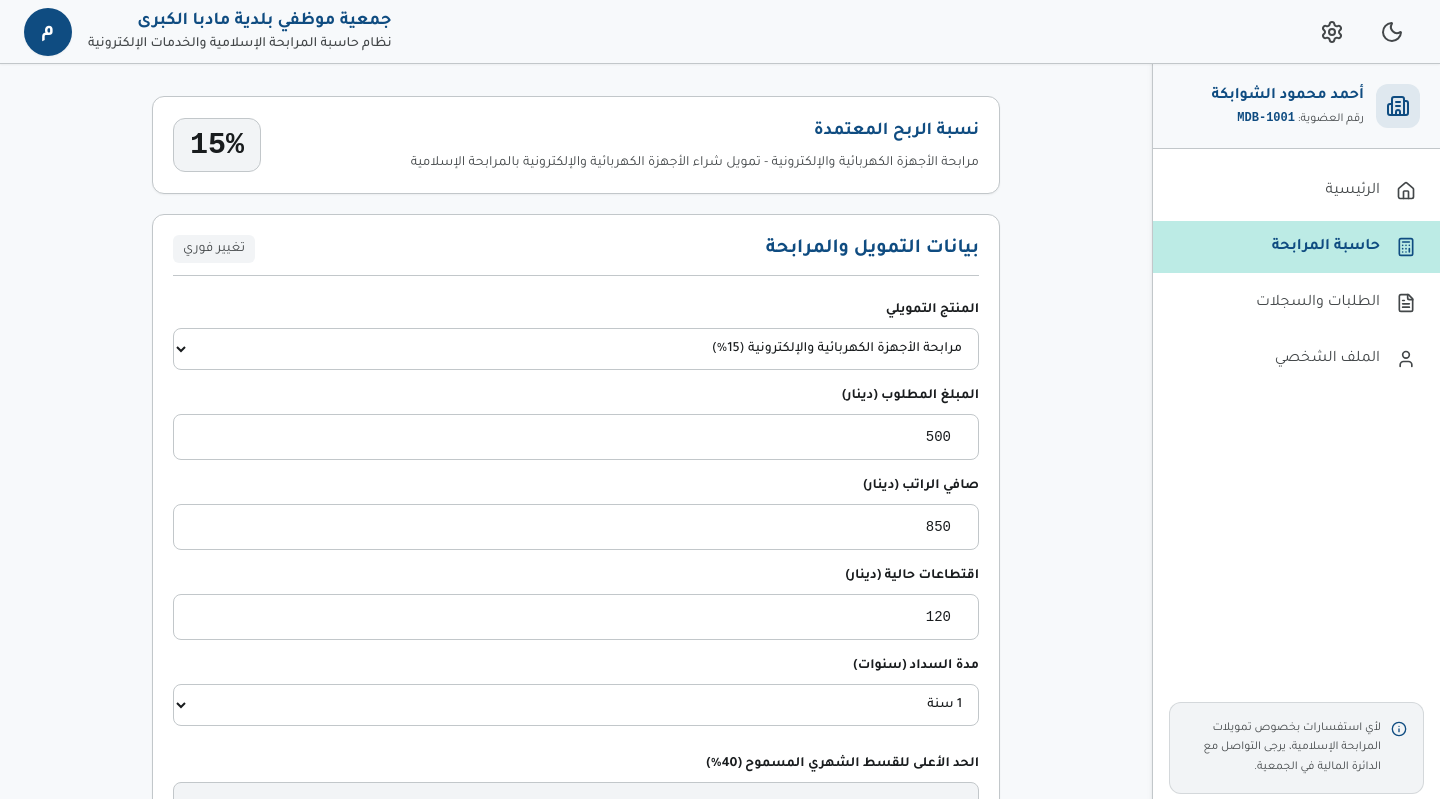
App with Convex queries and mutations › renders the home dashboard with profile stats and navigates via quick actions
The width and height of the screenshot is (1440, 799).
Click the button "الرئيسية" at (1353, 191), box [1153,165,1439,217]
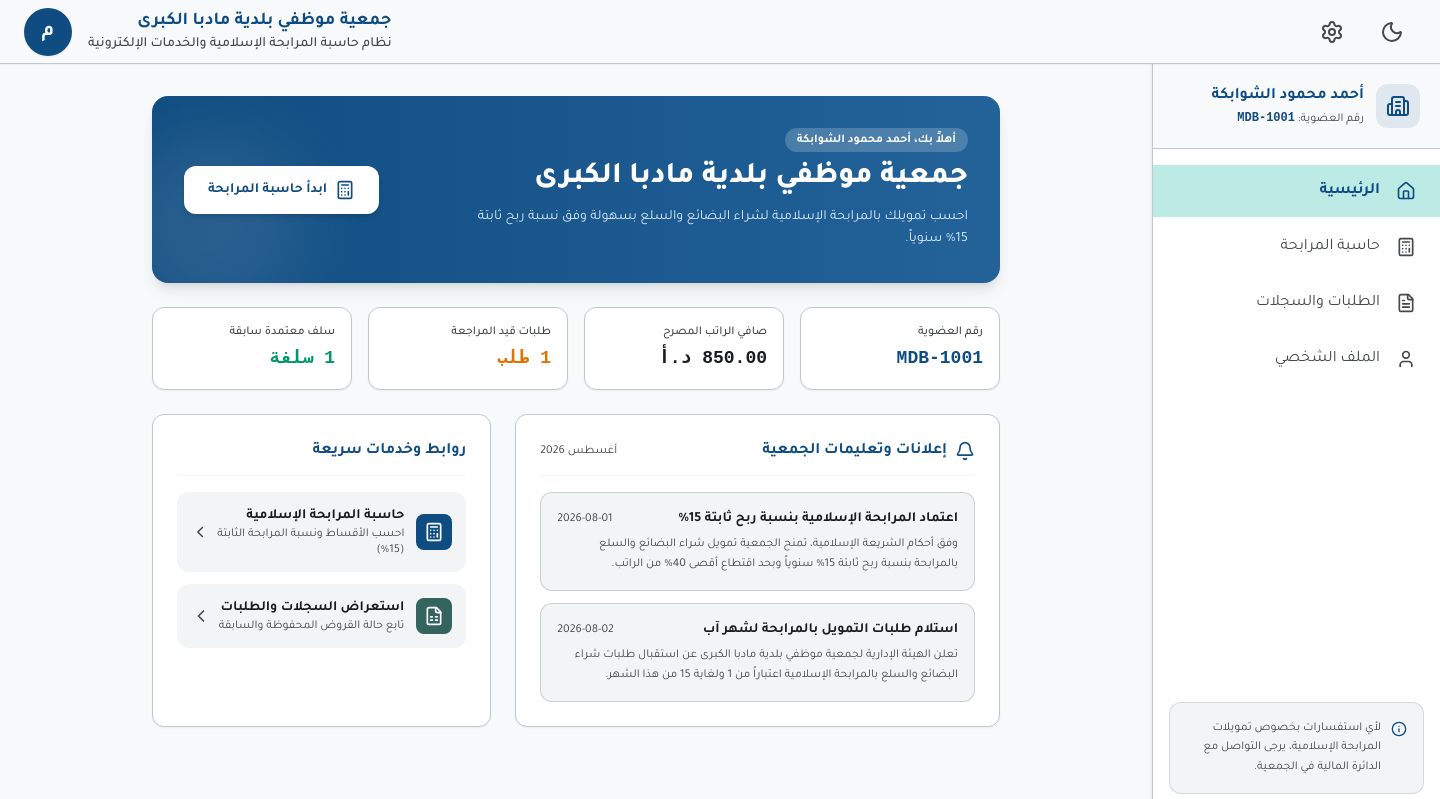
Expected: the text "أهلاً بك، أحمد محمود الشوابكة" is shown, [785,128,968,152]
Expected: the text "850.00 د.أ" is shown, [659,348,767,368]
Expected: the text "1 طلب" is shown, [497,348,551,368]
Click the button "ابدأ حاسبة المرابحة" at (282, 190), box [184,166,379,214]
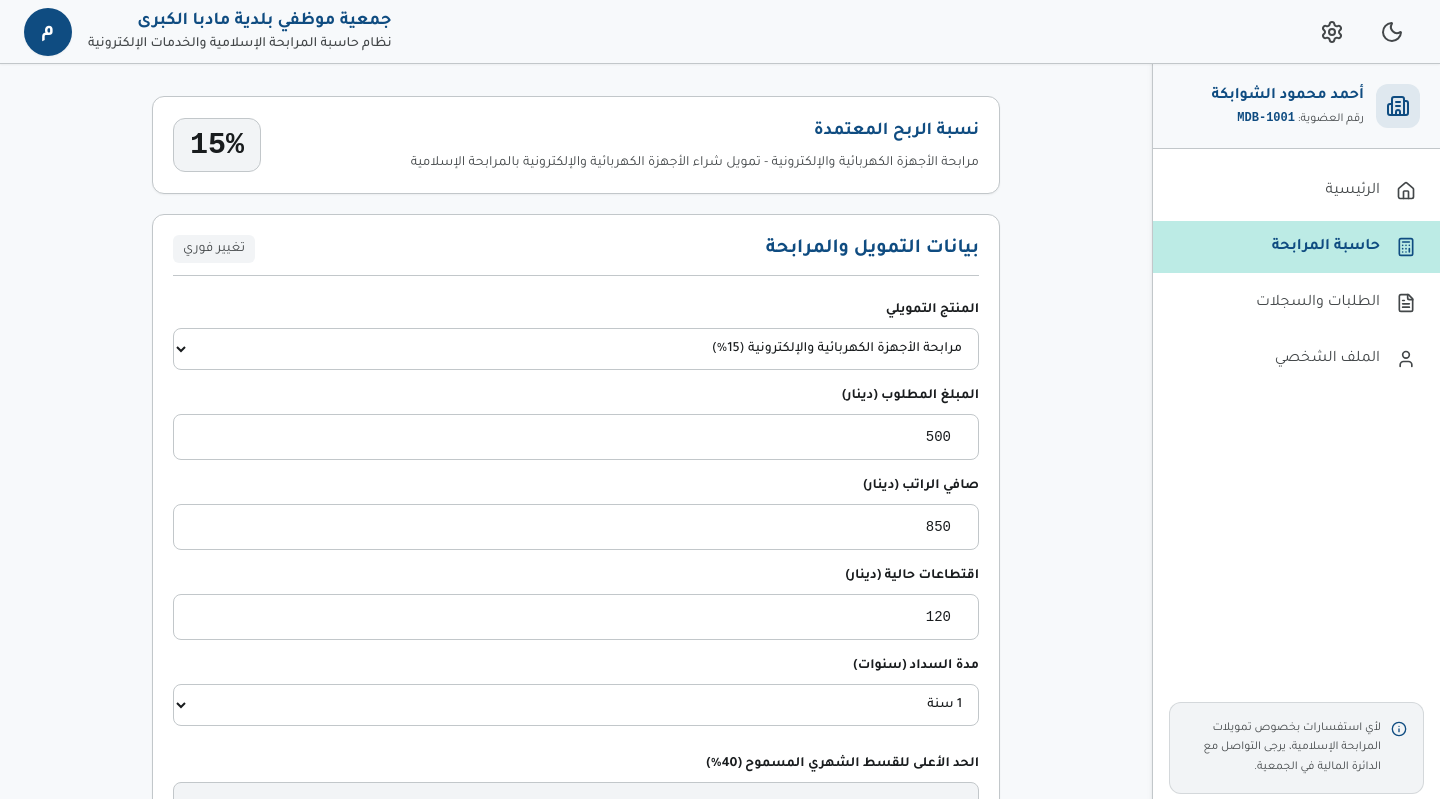
Expected: the heading "نسبة الربح المعتمدة" is shown, [814,122,979,140]
Click the button "الرئيسية" at (1353, 191), box [1153,165,1439,217]
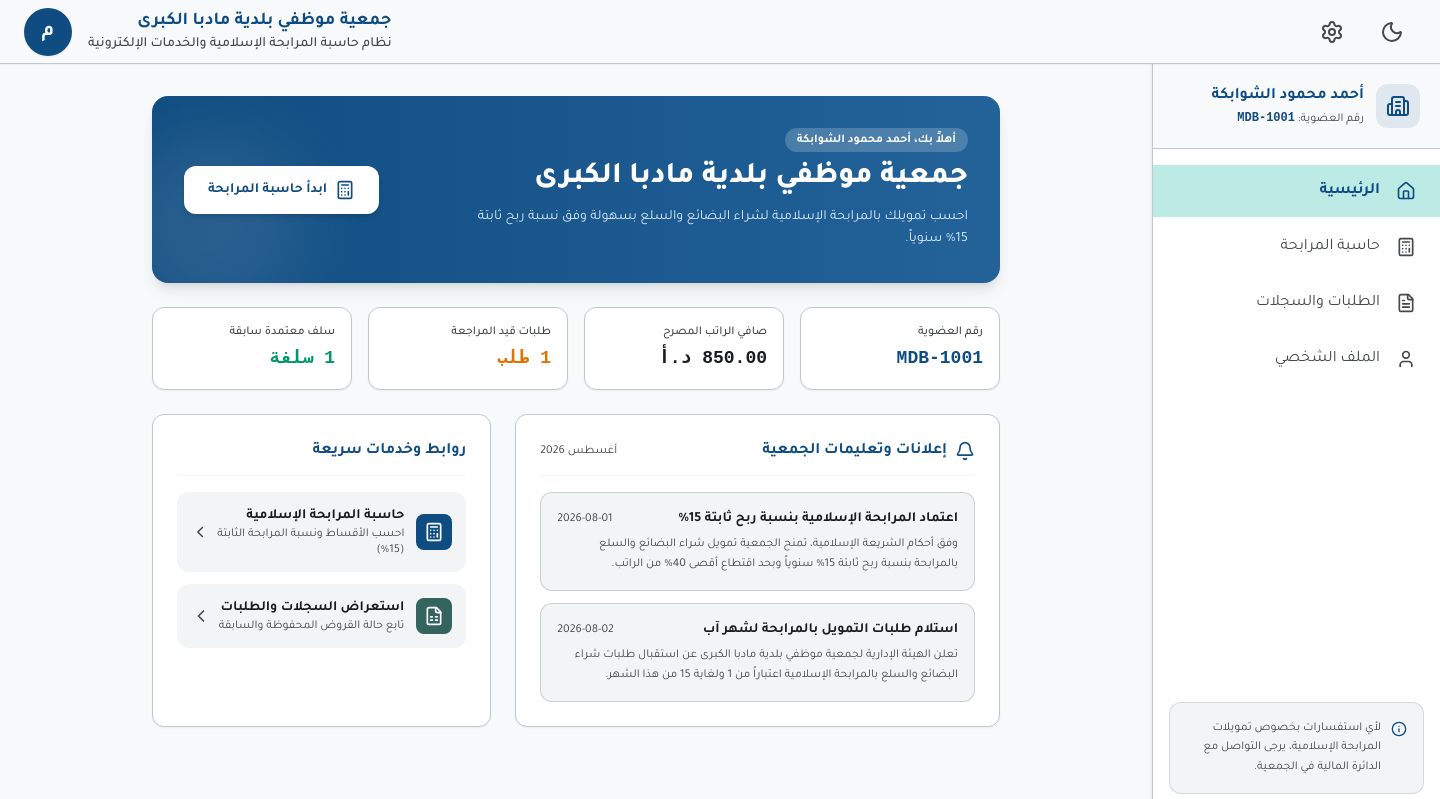
Click the button "استعراض السجلات والطلبات تابع حالة القروض المحفوظة والسابقة" at (322, 616), box [177,584,466,648]
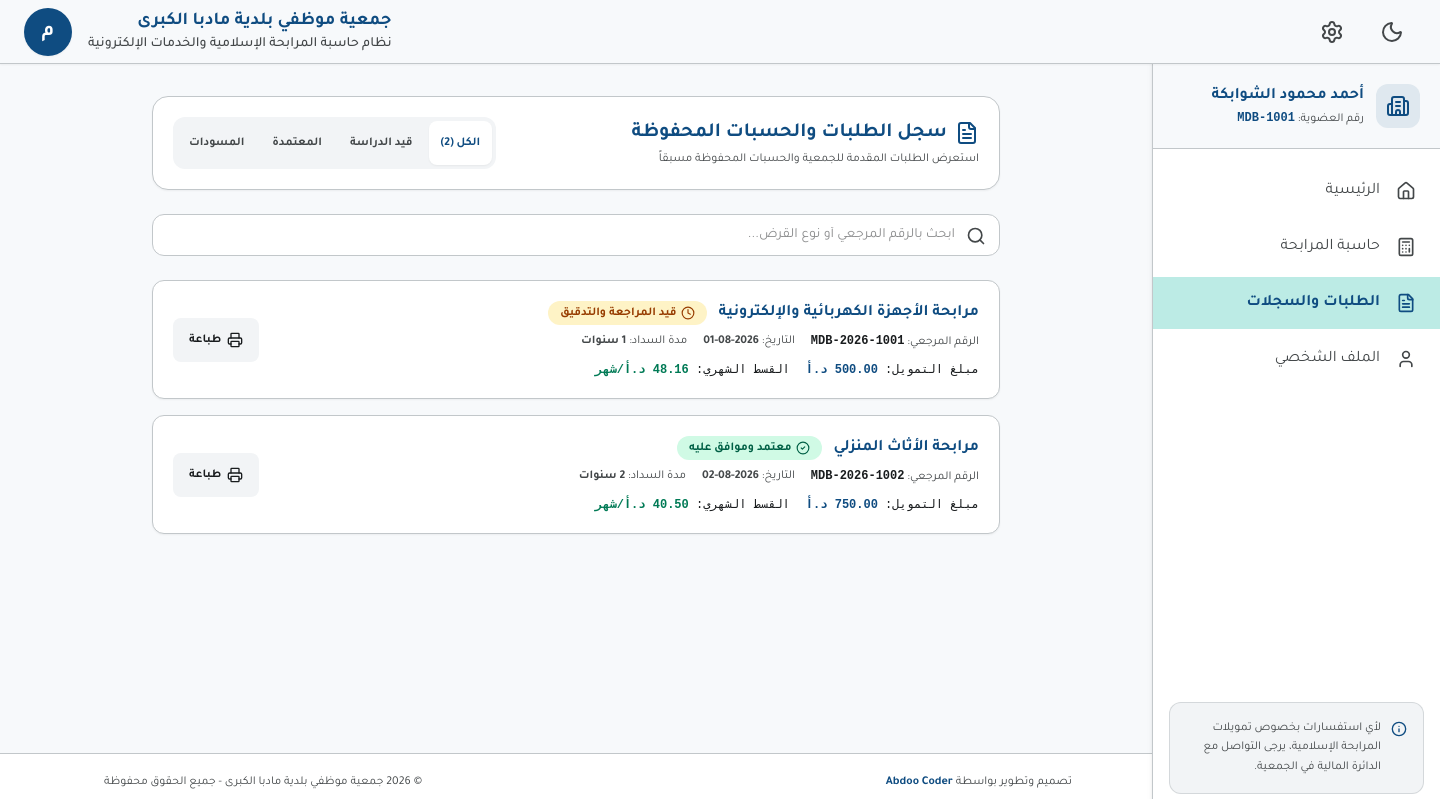
Expected: the text "سجل الطلبات والحسبات المحفوظة" is shown, [632,119,947,147]
Expected: the text "MDB-2026-1001" is shown, [811,334,904,348]
Expected: the text "750.00 د.أ" is shown, [806,498,878,512]
